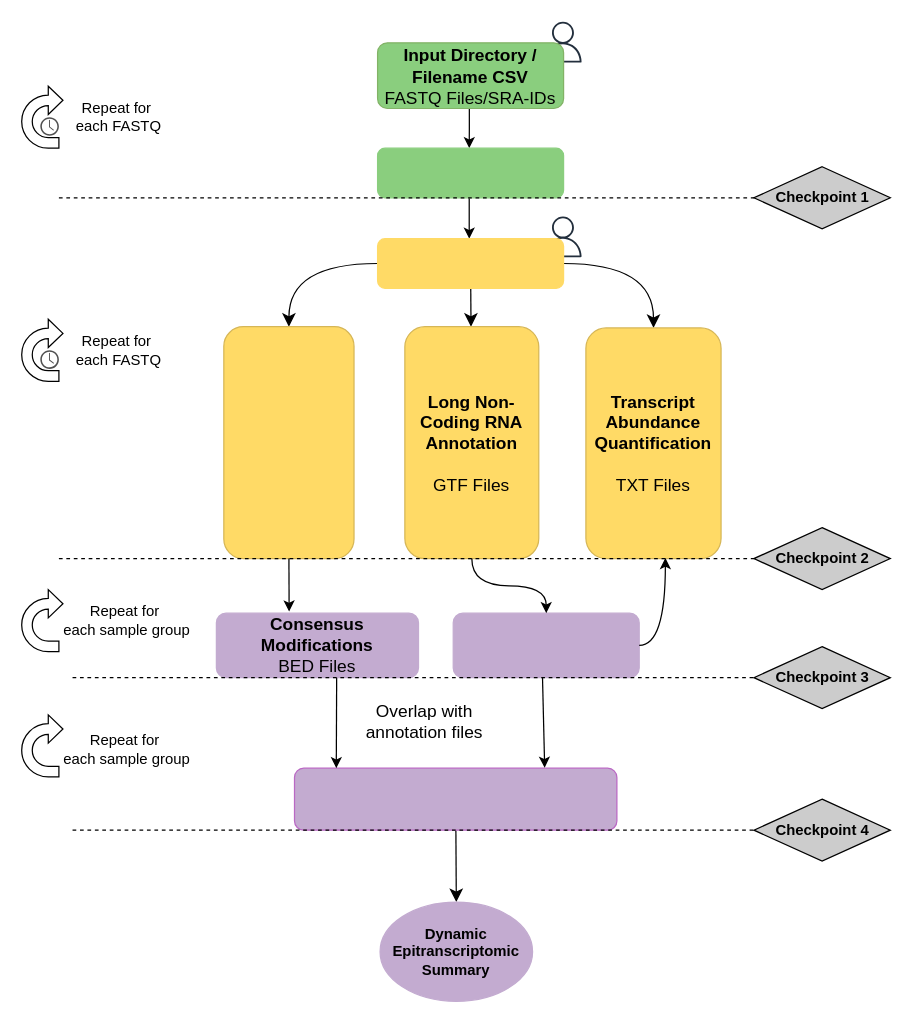
This 913x1023 diagram has some shape labels left out. The box of each missing label's shape, as (x1, y1, x2, y2) in pixels:
Consensus lncRNA and Merged Annotation GTF Files: (452, 612, 639, 678)
Mapped Reads BAM Files: (376, 237, 564, 288)
Overlapped Consensus Modifications BED Files: (293, 767, 617, 830)
RNA Modifications annotation TXT/BED Files: (223, 326, 354, 559)
Trimmed Reads FASTQ Files: (376, 147, 564, 198)
